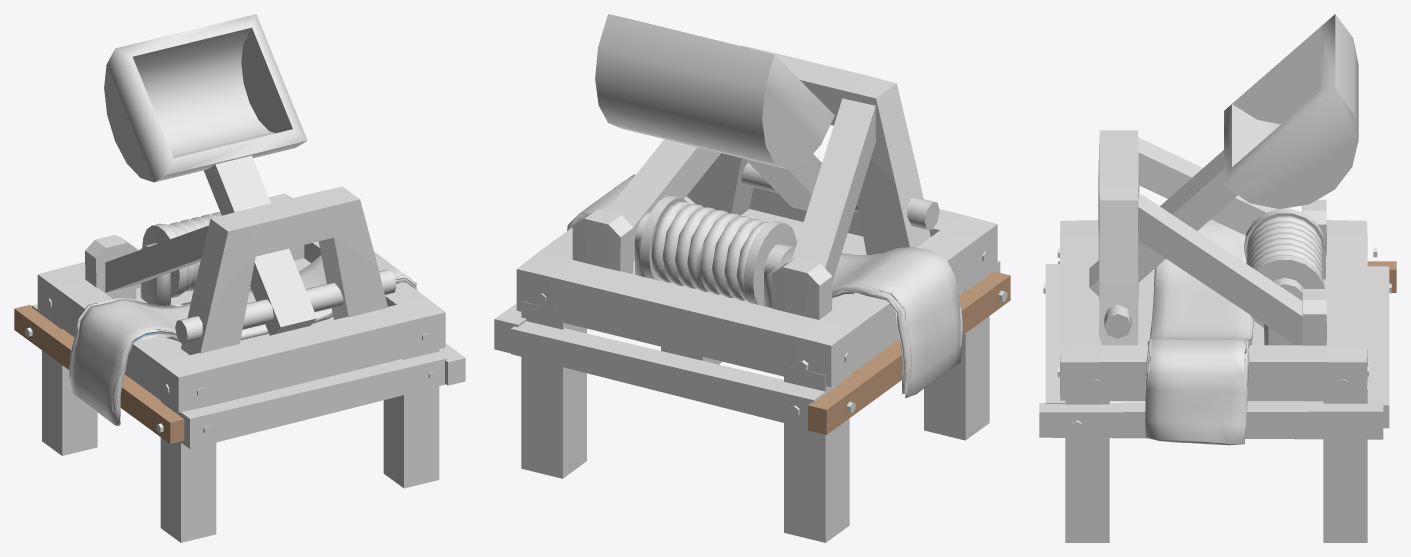
Rendered from area tower tier 1.fbx.
3 views of the same model, side by side, from view 1: azimuth 30°, elevation 25°; view 2: azimuth 150°, elevation 25°; view 3: azimuth 270°, elevation 25° (orthographic). The views are drawn at different scales.
Visible parts, largest first — view 1: Cube.398, Cylinder.132; view 2: Cube.398, Cylinder.132; view 3: Cube.398, Cylinder.132.
Part boxes in pixels (<box>): Cube.398: <box>14,186,465,542</box>; Cylinder.132: <box>104,14,316,335</box>; Cube.398: <box>494,45,1010,542</box>; Cylinder.132: <box>595,14,834,210</box>; Cube.398: <box>1039,130,1396,542</box>; Cylinder.132: <box>1089,14,1358,296</box>.
Size of what is drawn, in the model's own units: 432 by 513 by 393.
